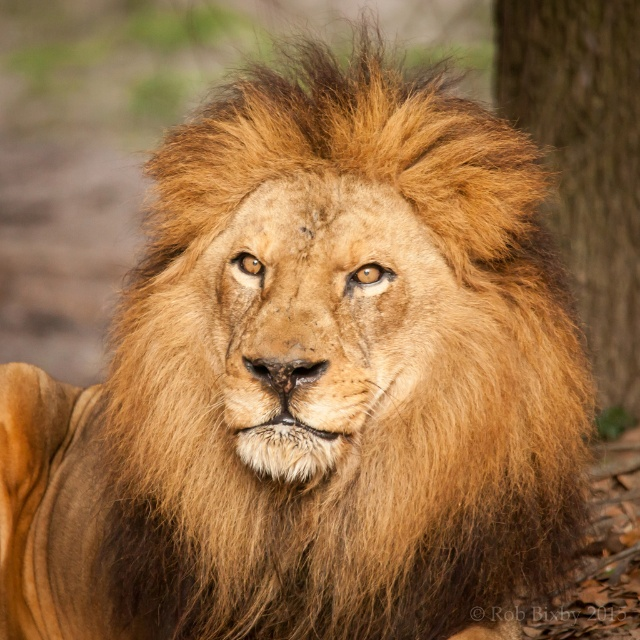Lion: (0, 1, 606, 640)
